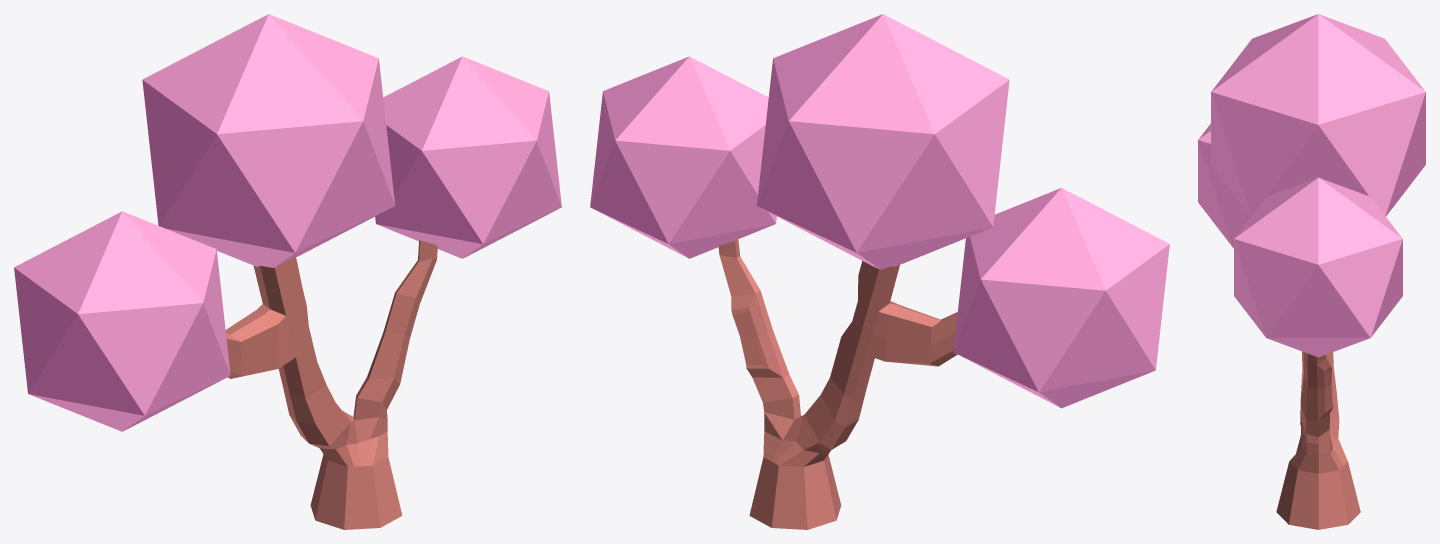
Rendered from biobloom_fauna_thicktree.fbx.
The picture shows the model from 3 angles, left to right: view 1: azimuth 30°, elevation 25°; view 2: azimuth 150°, elevation 25°; view 3: azimuth 270°, elevation 25°; orthographic projection. The views are drawn at different scales.
Parts seen in each view (by area): view 1: Cylinder.002; view 2: Cylinder.002; view 3: Cylinder.002.
Boxes of the visible parts, x1,y1,x2,y2 form: Cylinder.002: [14, 14, 561, 529]; Cylinder.002: [590, 14, 1169, 529]; Cylinder.002: [1198, 14, 1425, 529].
Size of the model in its own units: 1304 by 1202 by 539.
